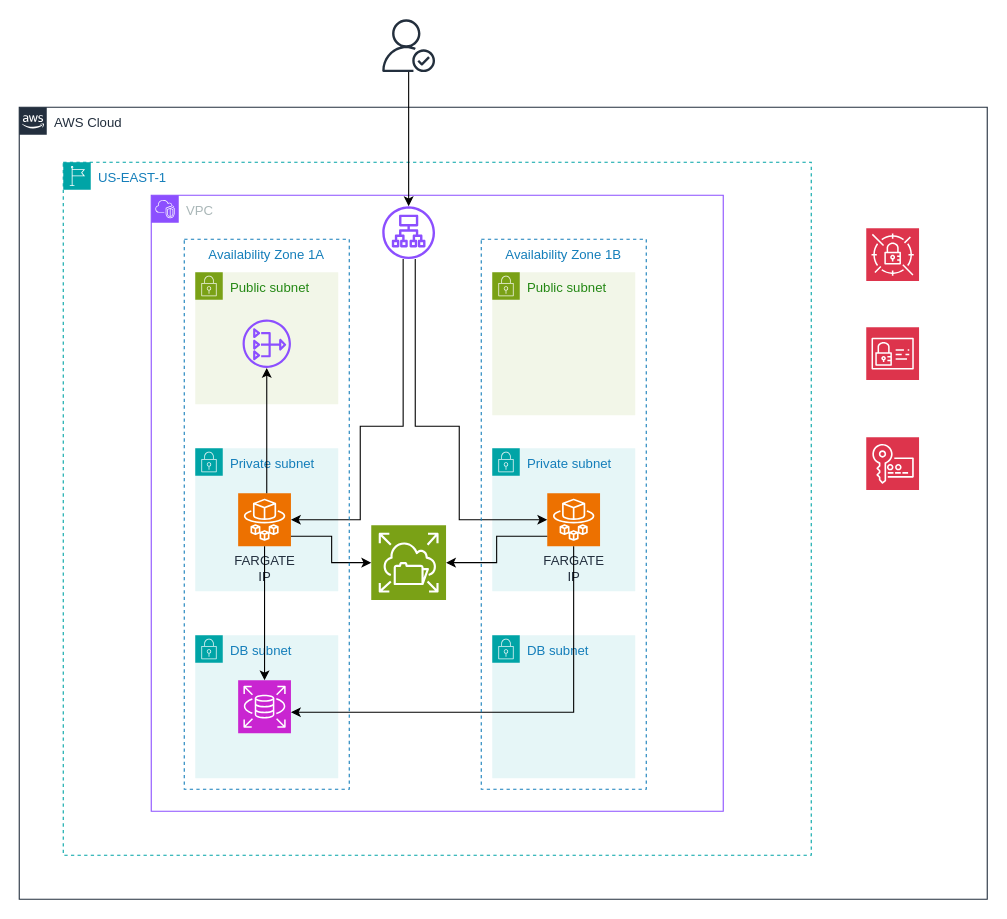
This 1007x919 diagram has some shape labels left out. Each missing label, with the centre of its shape:
ALB: [408,232]
EFS/MOUNT TARGET: [408,562]
IAM: [892,353]
KMS: [892,463]
NAT GATEWAY: [266,343]
RDS/MYSQL: [264,706]
SECRETS MANAGER: [892,254]
